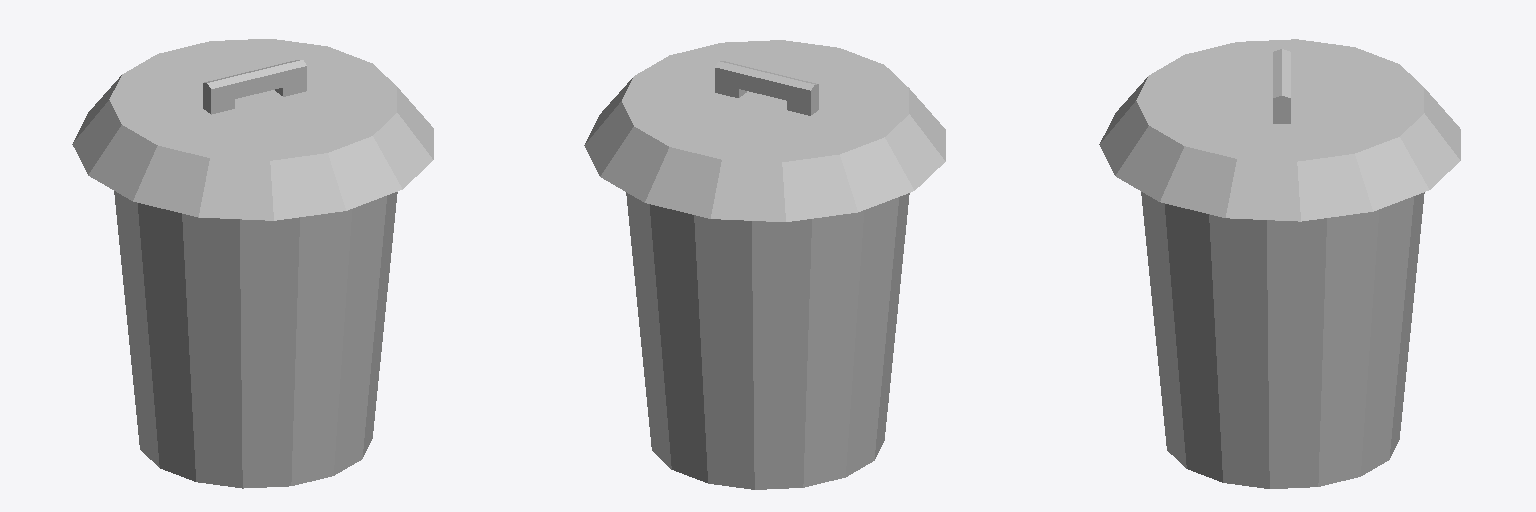
The model's file is TrashCan.obj.
3 views of the same model, side by side, from view 1: azimuth 30°, elevation 25°; view 2: azimuth 150°, elevation 25°; view 3: azimuth 270°, elevation 25° (orthographic).
Visible parts, largest first — view 1: TrashCan_Cylinder; view 2: TrashCan_Cylinder; view 3: TrashCan_Cylinder.
Boxes of the visible parts, box(x1,y1,x2,y2) form: TrashCan_Cylinder: box(72, 39, 433, 488); TrashCan_Cylinder: box(584, 40, 945, 489); TrashCan_Cylinder: box(1099, 39, 1460, 488).
Size of the model in its own units: 3.09 by 3.45 by 3.07.